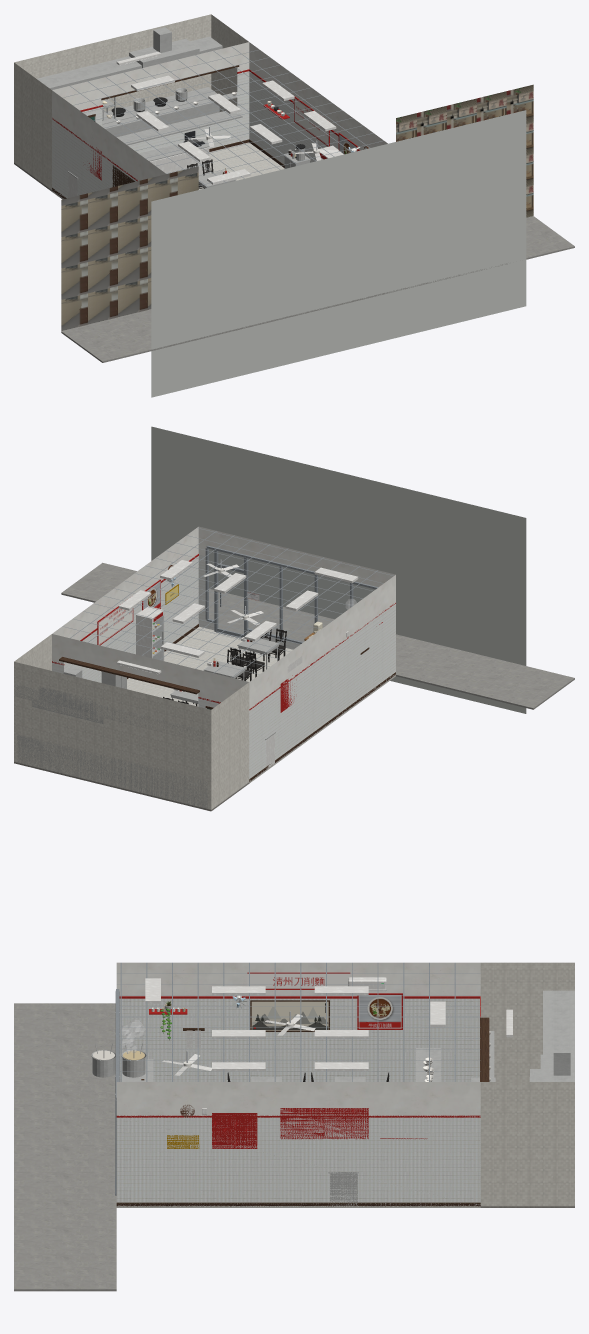
Rendered from l118_korea.glb.
3 renders of one model, top to bottom at view 1: azimuth 30°, elevation 25°; view 2: azimuth 150°, elevation 25°; view 3: azimuth 270°, elevation 25°, orthographic. The views are drawn at different scales.
Parts seen in each view (by area): view 1: WALL_S_view, WALL_W_nb_view, WALL_N_kitchen_tile_w, WALL_N_ksteel_cc0, l118_korea_paving, WALL_E_nb_view, CEIL_l118_korea_ceilgrid, WALL_N_wall, WALL_W_wain, WALL_E_wain, WALL_E_wall, CEIL_l118_korea_vc (+6 smaller); view 2: WALL_S_view, WALL_N_kitchen_tile_w, l118_korea_paving, WALL_W_wain, WALL_N_ksteel_cc0, WALL_S_glass, CEIL_l118_korea_ceilgrid, WALL_W_wall, WALL_N_wall, l118_korea_floorm, WALL_E_wall, WALL_S_wall (+12 smaller); view 3: WALL_E_wain, l118_korea_paving, WALL_W_wain, WALL_N_kitchen_tile_w, WALL_E_wall, WALL_W_wall, CEIL_l118_korea_ceilgrid, WALL_E_trim_red, CEIL_l118_korea_vc, WALL_N_ksteel_cc0, l118_korea_steel, WALL_W_print (+8 smaller).
Boxes of the visible parts, x1,y1,x2,y2 form: WALL_S_view: (151,110,526,397); WALL_W_nb_view: (61,166,198,330); WALL_N_kitchen_tile_w: (14,14,248,189); WALL_N_ksteel_cc0: (36,27,242,145); l118_korea_paving: (61,216,574,362); WALL_E_nb_view: (396,84,533,217); CEIL_l118_korea_ceilgrid: (62,46,383,187); WALL_N_wall: (52,42,249,110); WALL_W_wain: (52,119,136,198); WALL_E_wain: (249,71,338,164); WALL_E_wall: (249,42,387,150); CEIL_l118_korea_vc: (131,75,337,184); WALL_S_view: (151,426,526,713); WALL_N_kitchen_tile_w: (14,634,249,809); l118_korea_paving: (61,562,574,709); WALL_W_wain: (249,603,395,780); WALL_N_ksteel_cc0: (15,667,208,808); WALL_S_glass: (209,549,373,641); CEIL_l118_korea_ceilgrid: (62,527,393,677); WALL_W_wall: (249,575,395,708); WALL_N_wall: (52,634,248,702); l118_korea_floorm: (127,626,395,783); WALL_E_wall: (52,527,198,640); WALL_S_wall: (198,526,395,587); WALL_E_wain: (116,1117,480,1206); l118_korea_paving: (14,1003,116,1291); WALL_W_wain: (119,998,479,1081); WALL_N_kitchen_tile_w: (480,962,574,1206); WALL_E_wall: (116,1082,480,1116); WALL_W_wall: (116,962,480,996); CEIL_l118_korea_ceilgrid: (117,962,480,1081); WALL_E_trim_red: (116,1108,480,1148); CEIL_l118_korea_vc: (145,978,445,1075); WALL_N_ksteel_cc0: (471,990,574,1081); l118_korea_steel: (91,996,440,1205); WALL_W_print: (247,972,401,1028).
Size of the model in its own units: 15.8 by 6.27 by 13.1.
Materials: 34 (27 with a texture image).
